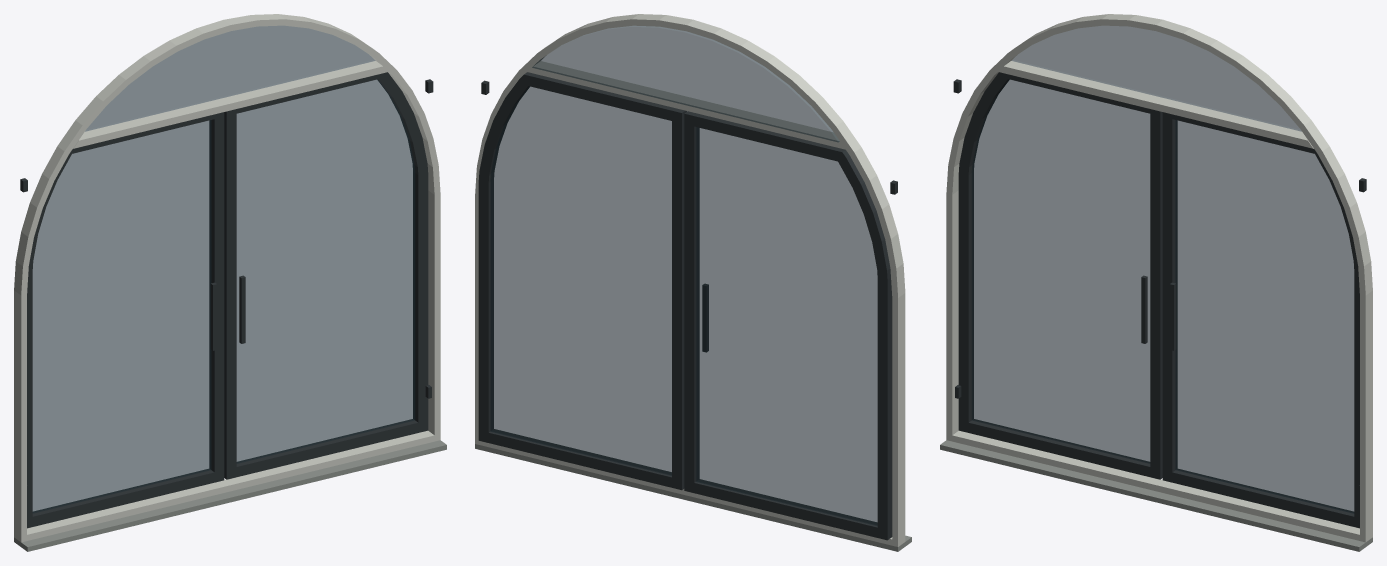
The model's file is moderno_arch_porton.glb.
3 views of the same model, side by side, from view 1: azimuth 30°, elevation 25°; view 2: azimuth 150°, elevation 25°; view 3: azimuth 330°, elevation 25° (orthographic).
Parts seen in each view (by area): view 1: door_glass#0001, door_glass#0002, door_reveal#0001, door_leaf_frame#0002, transom_glass#0001, door_leaf_frame#0001, door_threshold#0001, transom_rail#0001, door_handle#0001; view 2: door_glass#0002, door_glass#0001, door_leaf_frame#0001, transom_glass#0001, door_leaf_frame#0002, door_reveal#0001, transom_rail#0001, door_threshold#0001; view 3: door_glass#0002, door_glass#0001, door_reveal#0001, door_leaf_frame#0001, transom_glass#0001, door_leaf_frame#0002, door_threshold#0001, transom_rail#0001, door_handle#0002.
Part boxes in pixels (bbox=[...]): door_glass#0001: bbox=[32, 120, 211, 513]; door_glass#0002: bbox=[236, 79, 414, 463]; door_reveal#0001: bbox=[14, 14, 440, 542]; door_leaf_frame#0002: bbox=[224, 72, 428, 479]; transom_glass#0001: bbox=[85, 25, 375, 131]; door_leaf_frame#0001: bbox=[27, 112, 224, 528]; door_threshold#0001: bbox=[14, 440, 446, 551]; transom_rail#0001: bbox=[73, 61, 388, 148]; door_handle#0001: bbox=[210, 282, 217, 350]; door_glass#0002: bbox=[490, 86, 671, 475]; door_glass#0001: bbox=[696, 127, 877, 525]; door_leaf_frame#0001: bbox=[684, 111, 892, 540]; transom_glass#0001: bbox=[532, 25, 839, 142]; door_leaf_frame#0002: bbox=[478, 72, 687, 490]; door_reveal#0001: bbox=[475, 14, 905, 546]; transom_rail#0001: bbox=[528, 61, 845, 149]; door_threshold#0001: bbox=[475, 444, 911, 551]; door_glass#0002: bbox=[1175, 120, 1354, 513]; door_glass#0001: bbox=[971, 79, 1150, 463]; door_reveal#0001: bbox=[946, 14, 1372, 542]; door_leaf_frame#0001: bbox=[958, 72, 1162, 479]; transom_glass#0001: bbox=[1011, 25, 1301, 131]; door_leaf_frame#0002: bbox=[1162, 112, 1359, 528]; door_threshold#0001: bbox=[940, 440, 1372, 551]; transom_rail#0001: bbox=[998, 61, 1313, 148]; door_handle#0002: bbox=[1169, 282, 1176, 350].
Size of the model in its own units: 3.2 by 3.44 by 0.225.
